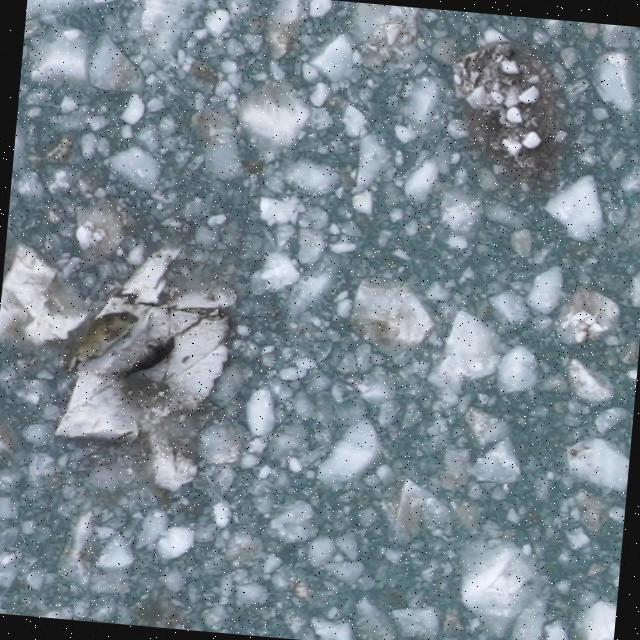seal: (62, 303, 142, 380), (115, 327, 180, 387)
